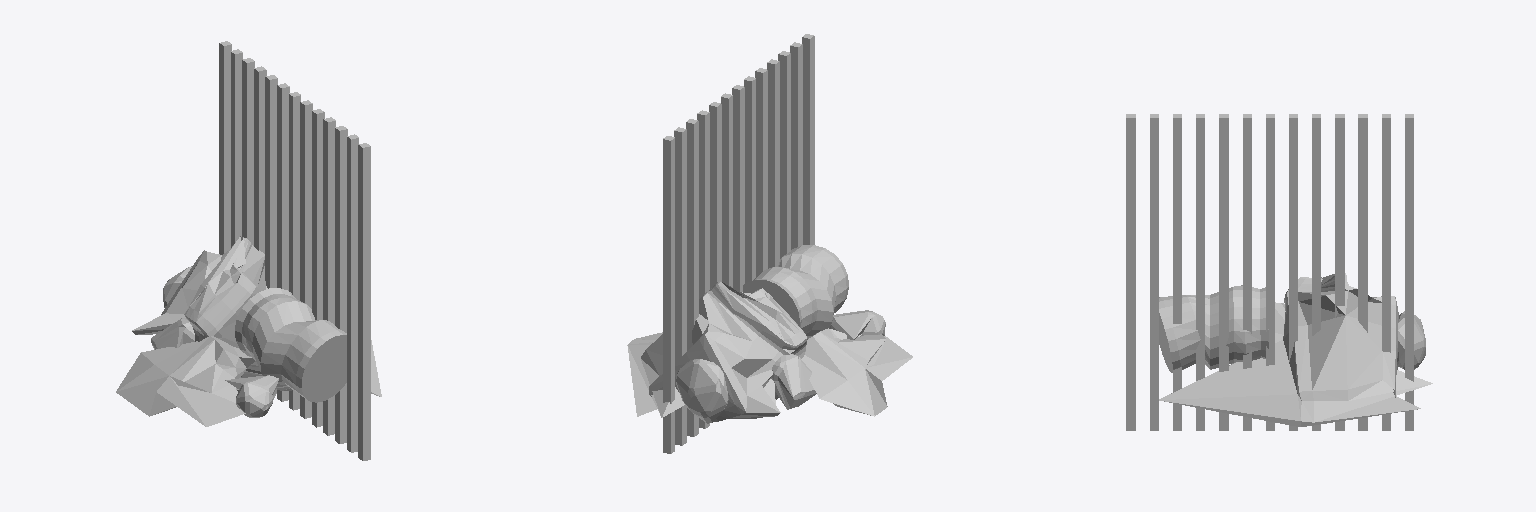
File: sewer_garbage_4.obj
3 renders of one model, left to right at view 1: azimuth 30°, elevation 25°; view 2: azimuth 150°, elevation 25°; view 3: azimuth 270°, elevation 25°, orthographic.
Parts seen in each view (by area): view 1: pCube27; view 2: pCube27; view 3: pCube27.
Part boxes in pixels (x1,y1,x2,y2): pCube27: (116,41,381,460); pCube27: (627,34,912,453); pCube27: (1126,114,1432,430).
Bounding box in the file's own units: 30.79 × 37.3 × 33.13.